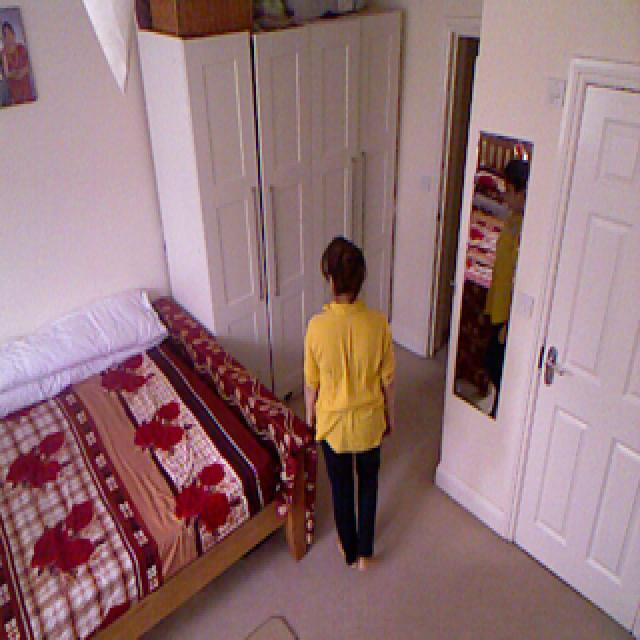standing: (304, 236, 392, 573)
